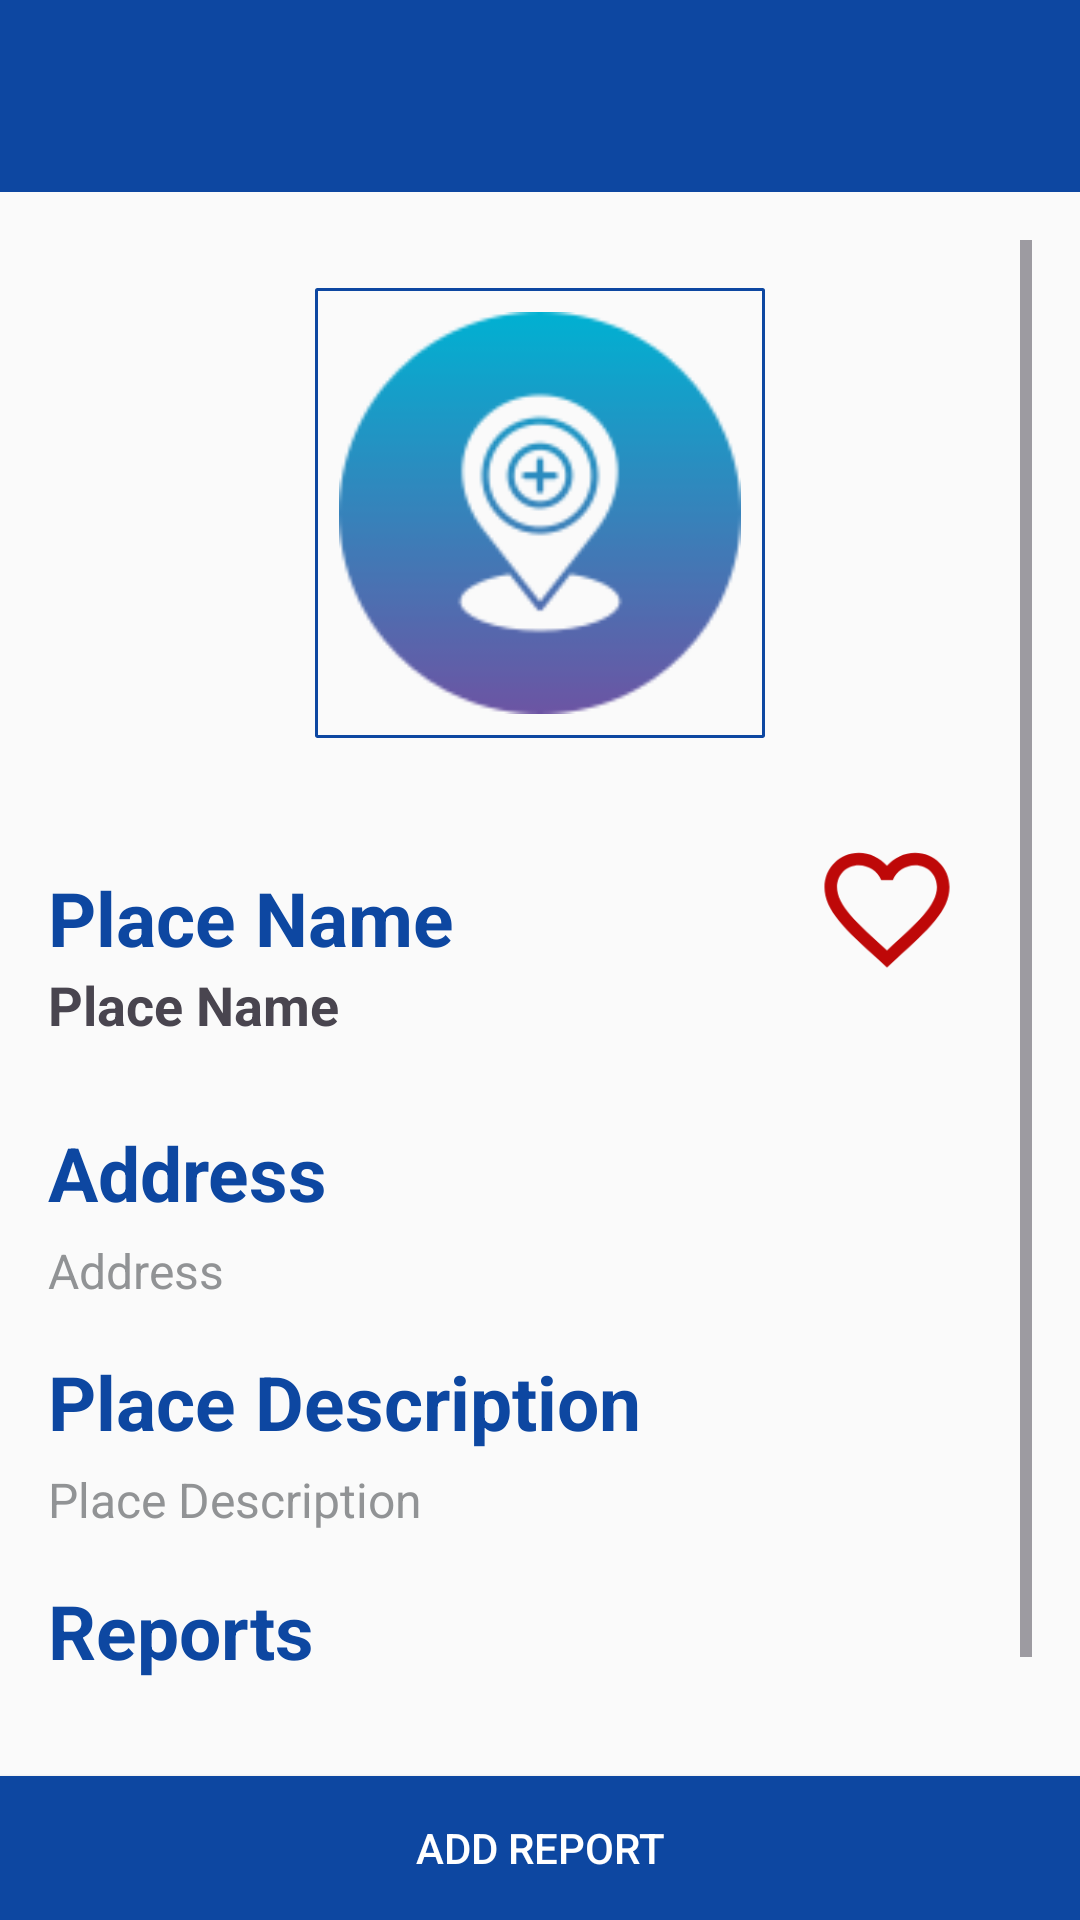

Icons on this 1080*1920 Android screen, each with the point to tap as (x=x, y=y):
Add to favorites: (x=887, y=910)
